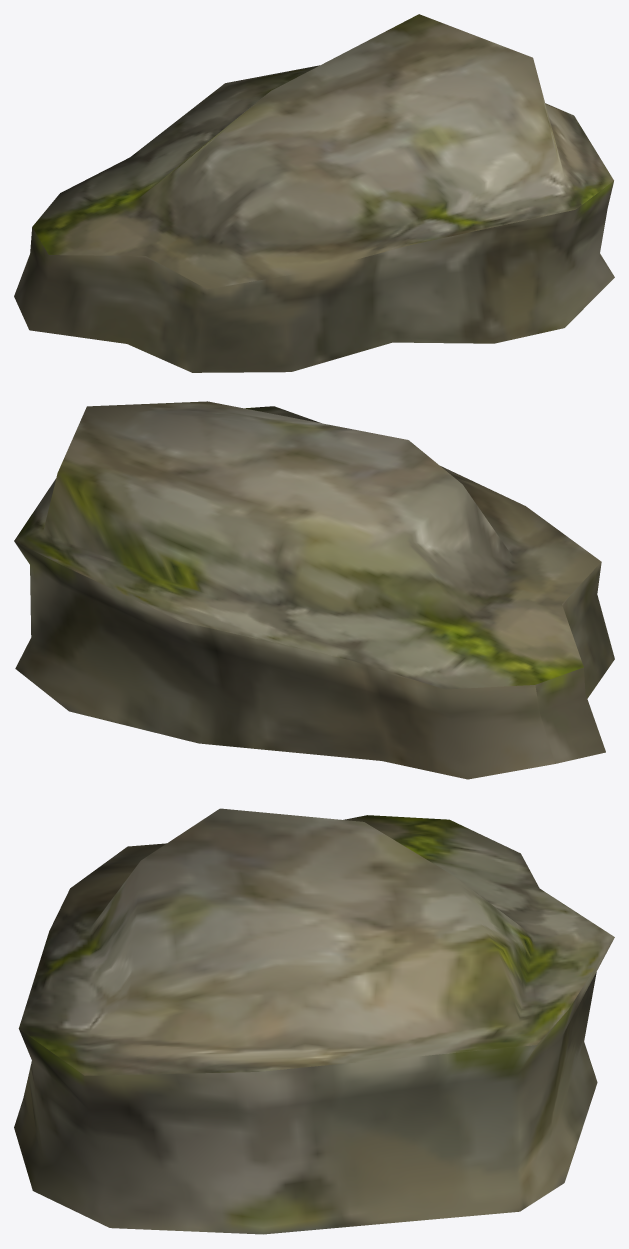
Rendered from DN_lv4_Rock_D.FBX.
3 views of the same model, one above another, from view 1: azimuth 30°, elevation 25°; view 2: azimuth 150°, elevation 25°; view 3: azimuth 270°, elevation 25° (orthographic). The views are drawn at different scales.
Parts seen in each view (by area): view 1: DN_lv4_Rock_D; view 2: DN_lv4_Rock_D; view 3: DN_lv4_Rock_D.
Part boxes in pixels (left/top/right/bottom): DN_lv4_Rock_D: left=14, top=14, right=614, bottom=372; DN_lv4_Rock_D: left=14, top=401, right=614, bottom=779; DN_lv4_Rock_D: left=14, top=808, right=614, bottom=1234.
Size of the model in its own units: 639 by 233 by 469.
